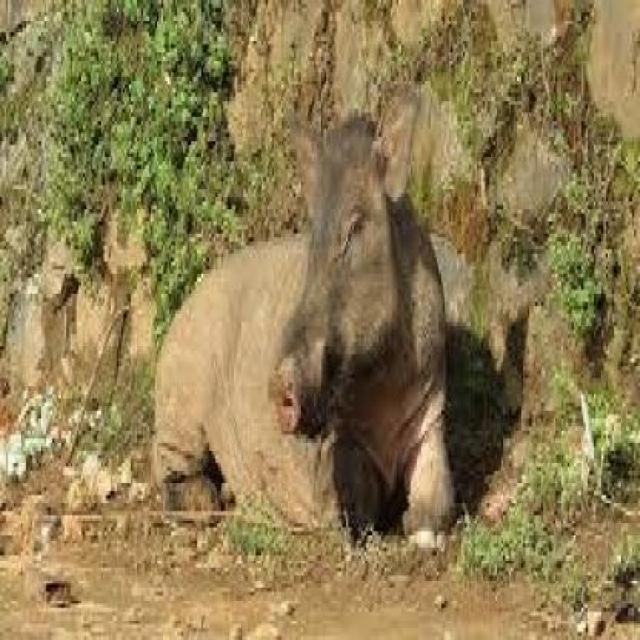wildboar: (141, 75, 462, 574)
